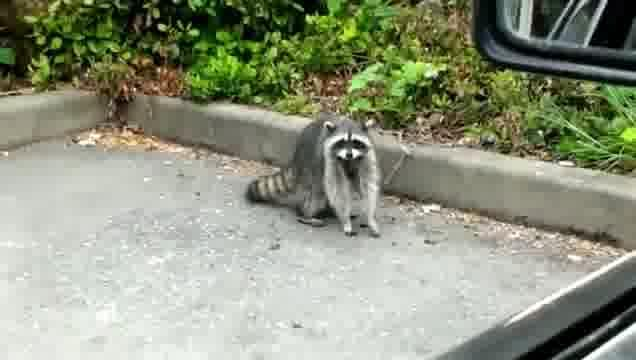raccoon: (247, 115, 383, 239)
